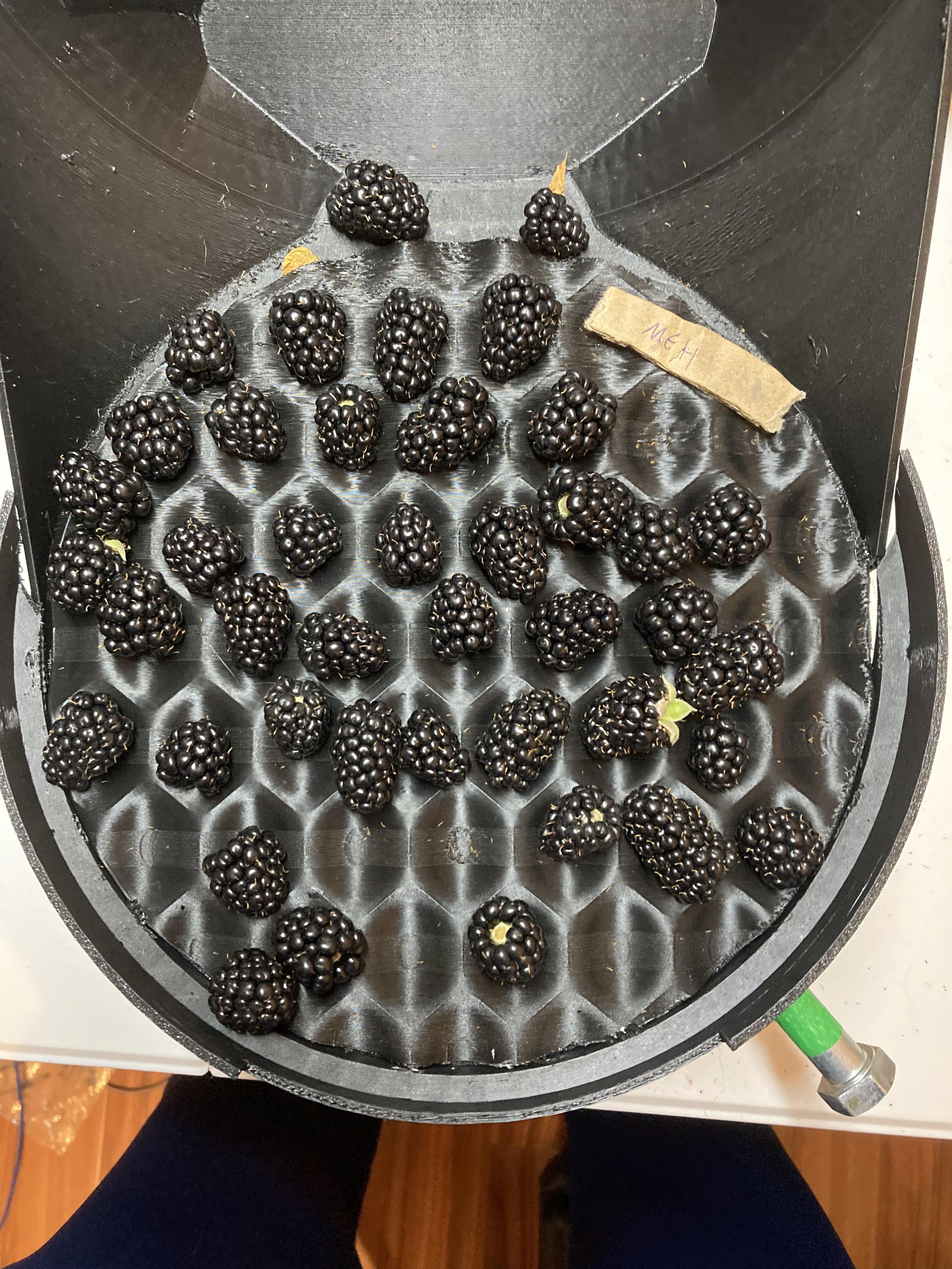berry: (622, 785, 723, 900), (676, 622, 785, 715), (395, 376, 497, 471), (580, 673, 694, 757), (270, 900, 364, 999), (51, 448, 152, 540), (476, 690, 567, 791), (43, 690, 132, 789), (370, 287, 446, 402), (536, 467, 636, 553), (476, 274, 558, 378), (212, 573, 293, 677), (327, 159, 427, 243), (736, 801, 825, 894), (327, 702, 400, 815), (526, 375, 613, 465), (526, 586, 617, 672), (105, 391, 193, 479), (208, 948, 298, 1034), (205, 824, 288, 916), (101, 565, 183, 658), (471, 499, 546, 600), (267, 289, 345, 386), (682, 481, 766, 569), (467, 896, 546, 987), (634, 580, 718, 663), (47, 526, 127, 613), (419, 575, 497, 664), (298, 608, 388, 682), (370, 495, 444, 584), (163, 516, 244, 597), (210, 380, 288, 462), (156, 714, 232, 798), (615, 502, 694, 582), (166, 307, 238, 394), (270, 494, 343, 575), (540, 785, 616, 862), (399, 708, 471, 788), (315, 382, 380, 470), (265, 674, 329, 759), (519, 188, 587, 256), (687, 717, 749, 791), (456, 485, 456, 485)
